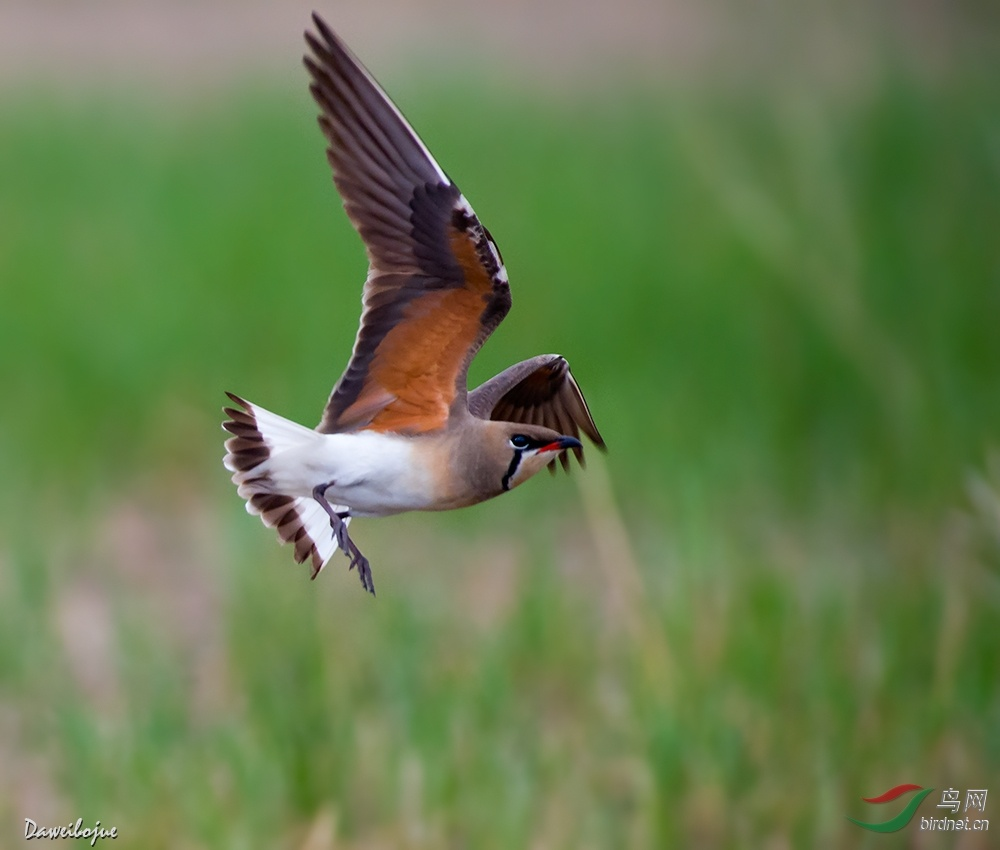bird: (218, 9, 606, 596)
